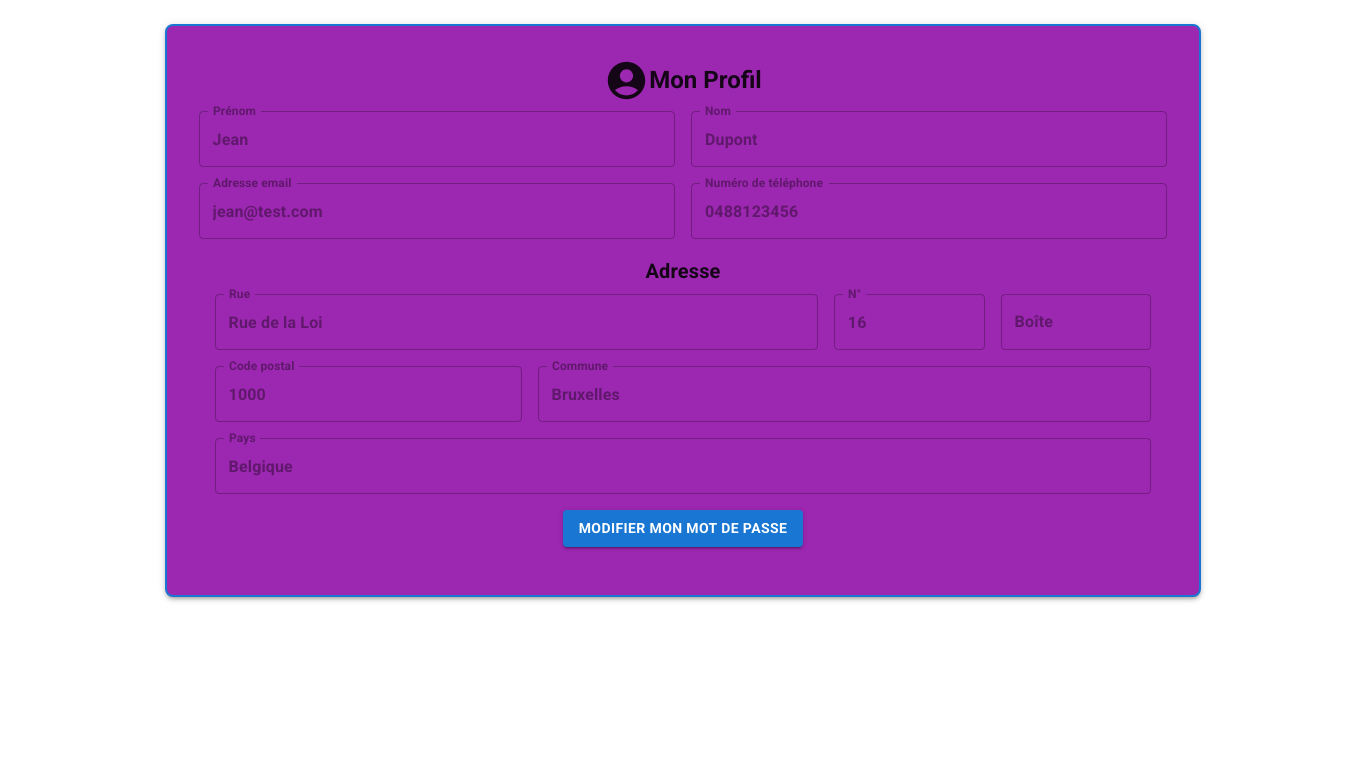
Test: ProfilePage › displays an error if the current password is incorrect
Expected: the field showing "Jean" is shown, [199,111,675,167]
Click the button "Modifier mon mot de passe" at point(683, 528), box [563,510,803,546]
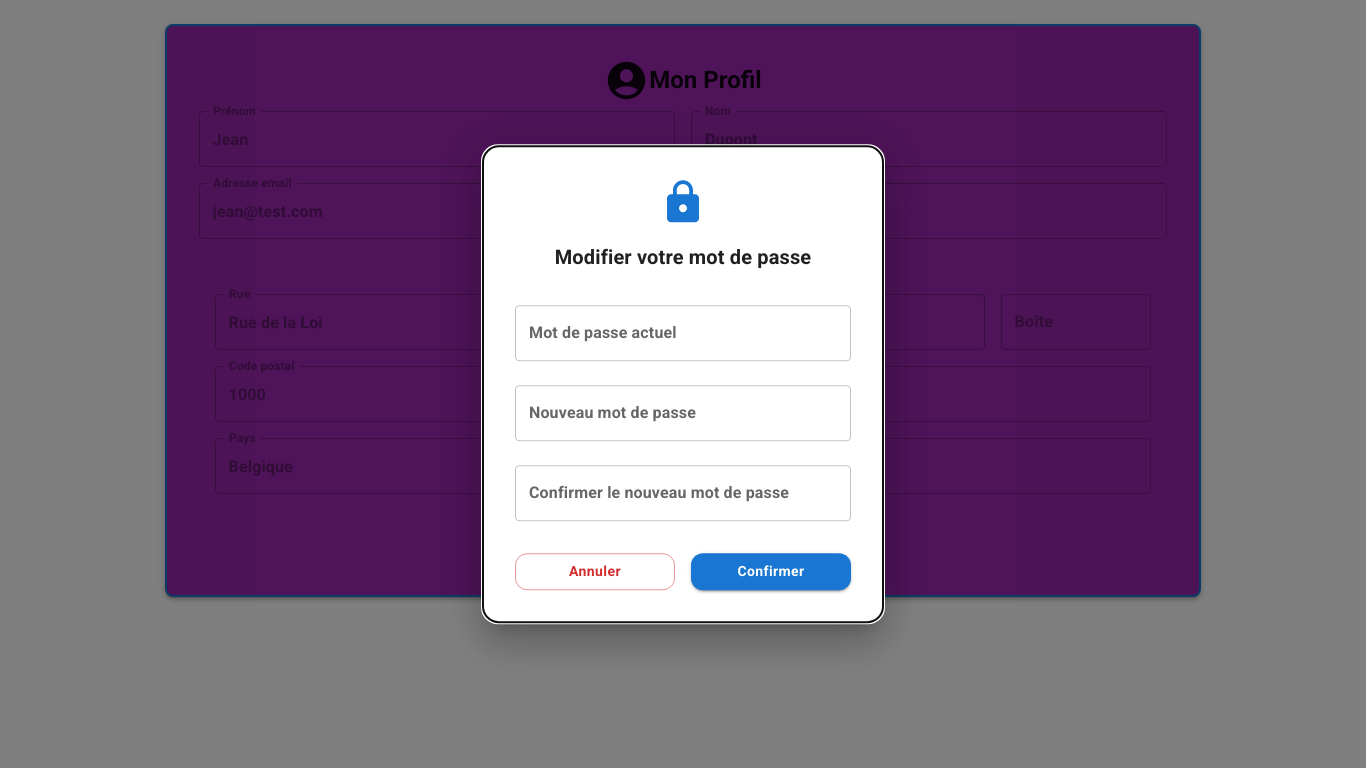
Type "wrongpass" into the password field labelled "Mot de passe actuel" at point(683, 333), box [515,305,851,361]
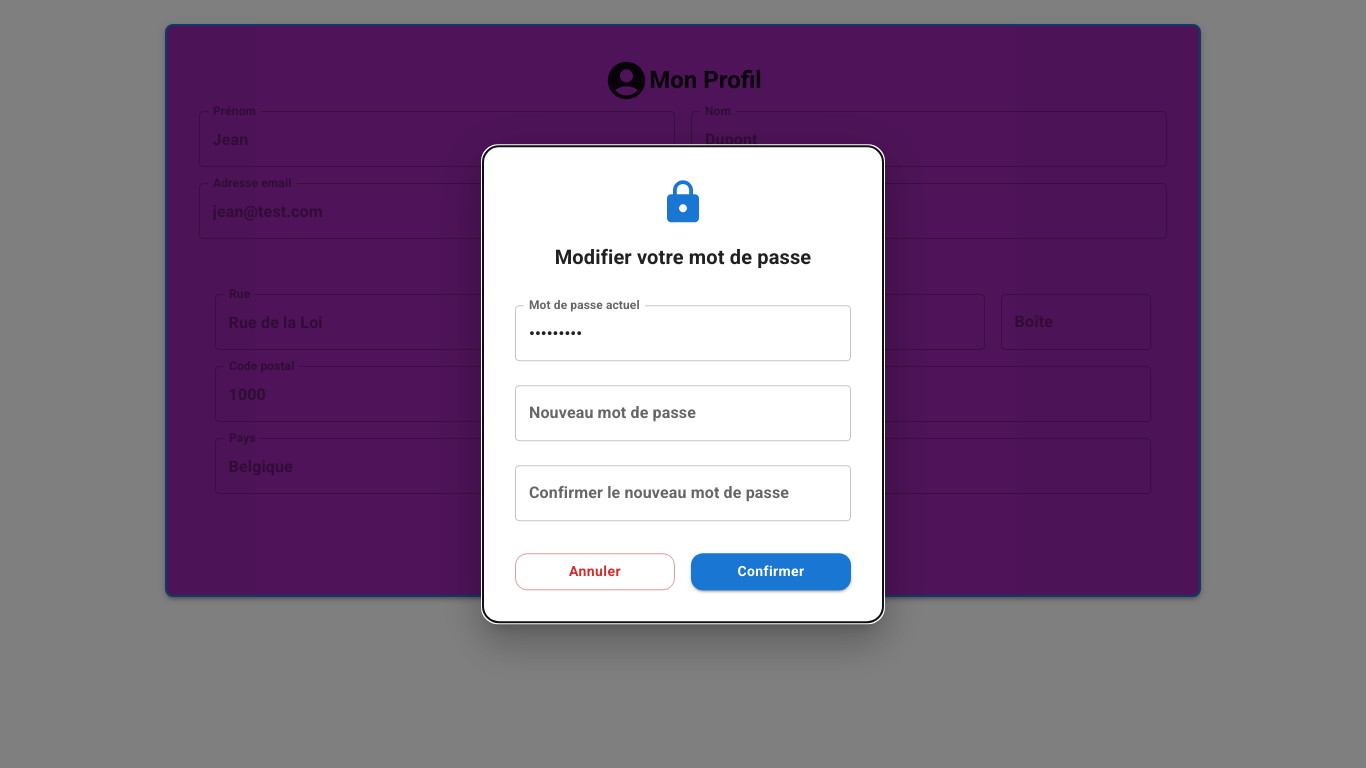
Type "NewPass123!" into the password field labelled "Nouveau mot de passe" at point(683, 413), box [515,385,851,441]
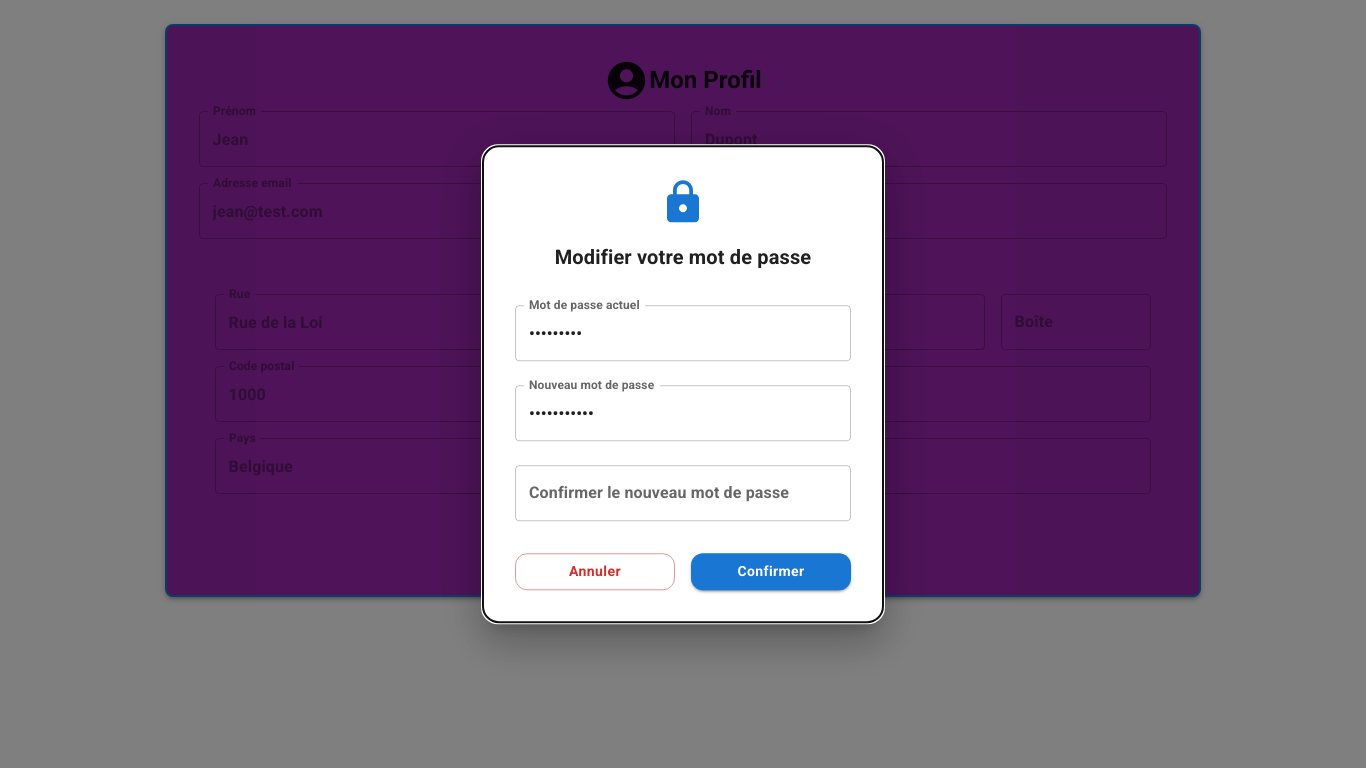
Type "NewPass123!" into the password field labelled "Confirmer le nouveau mot de passe" at point(683, 493), box [515,465,851,521]
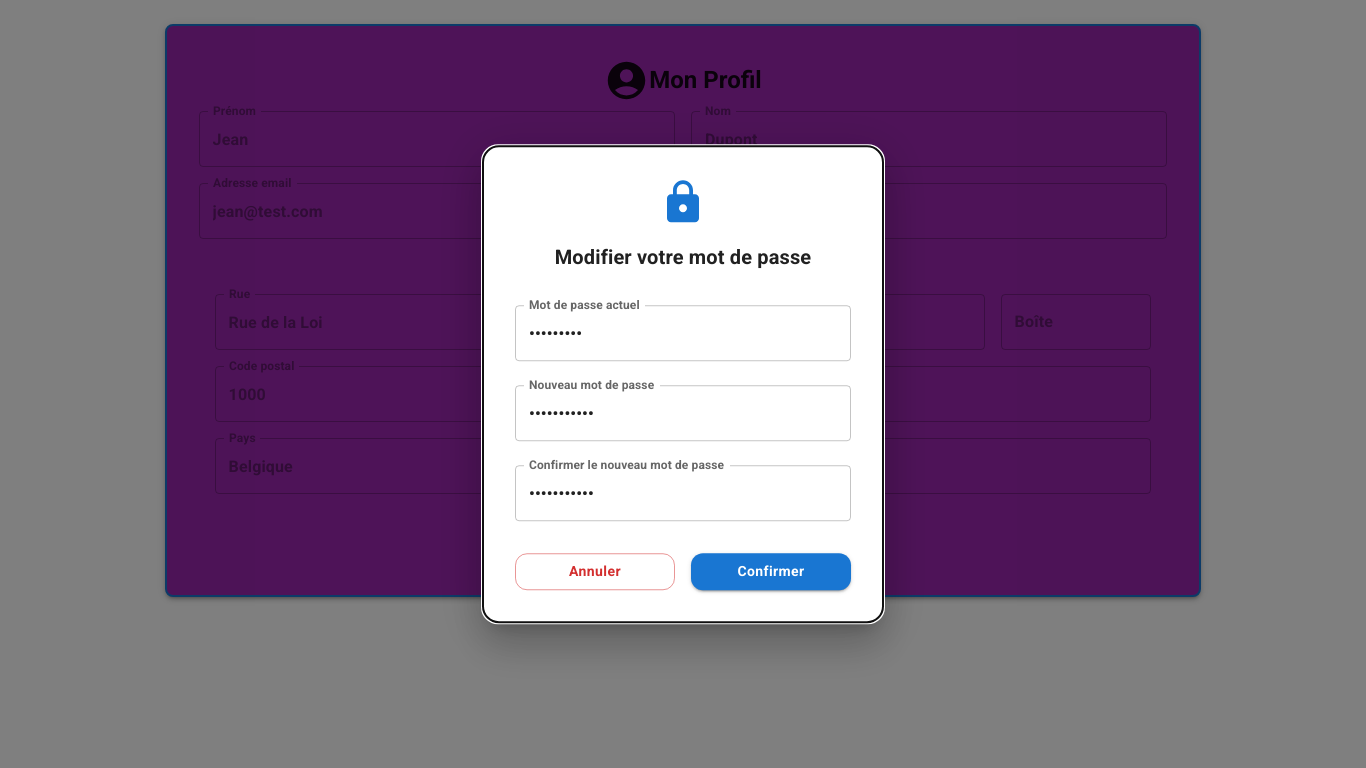
Click the button "Confirmer" at point(771, 572), box [691,553,851,590]
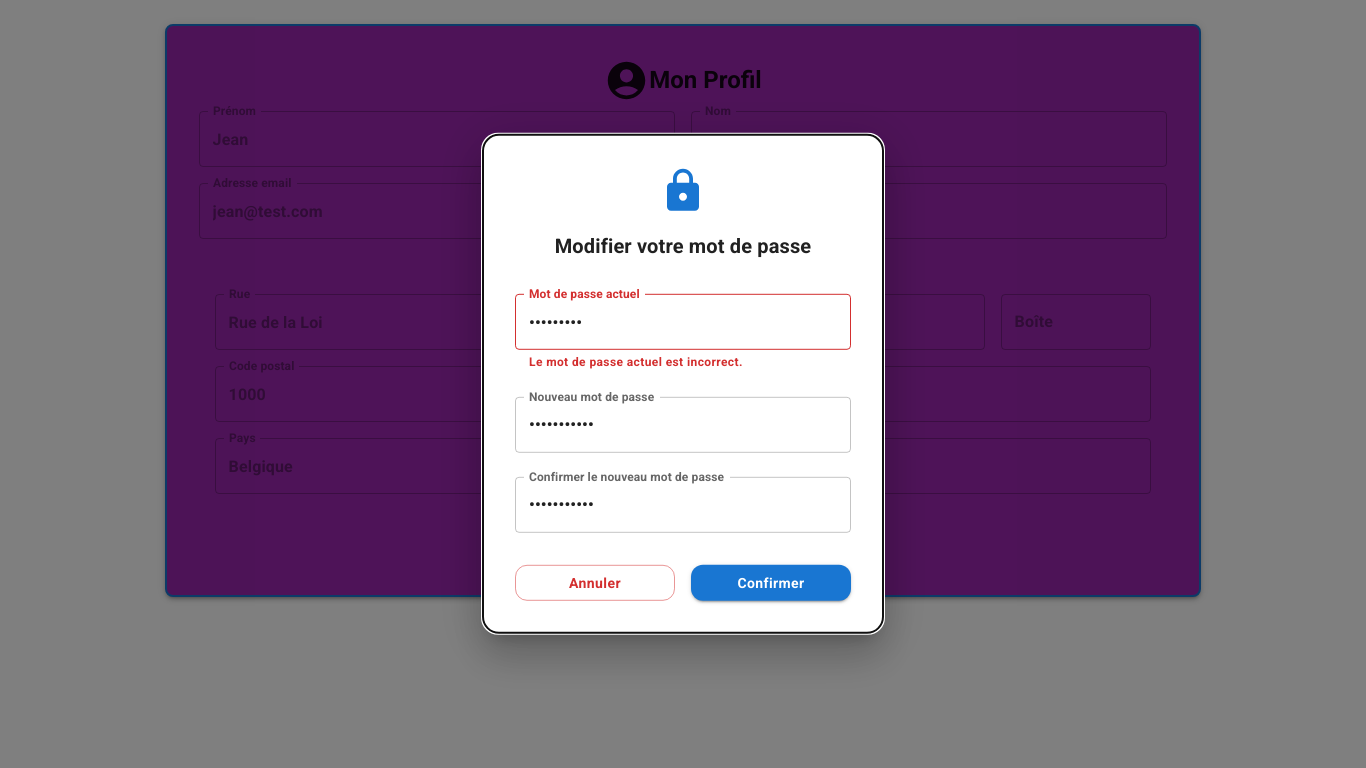
Result: the text "Le mot de passe actuel est incorrect." is shown at [529,355,743,369]
